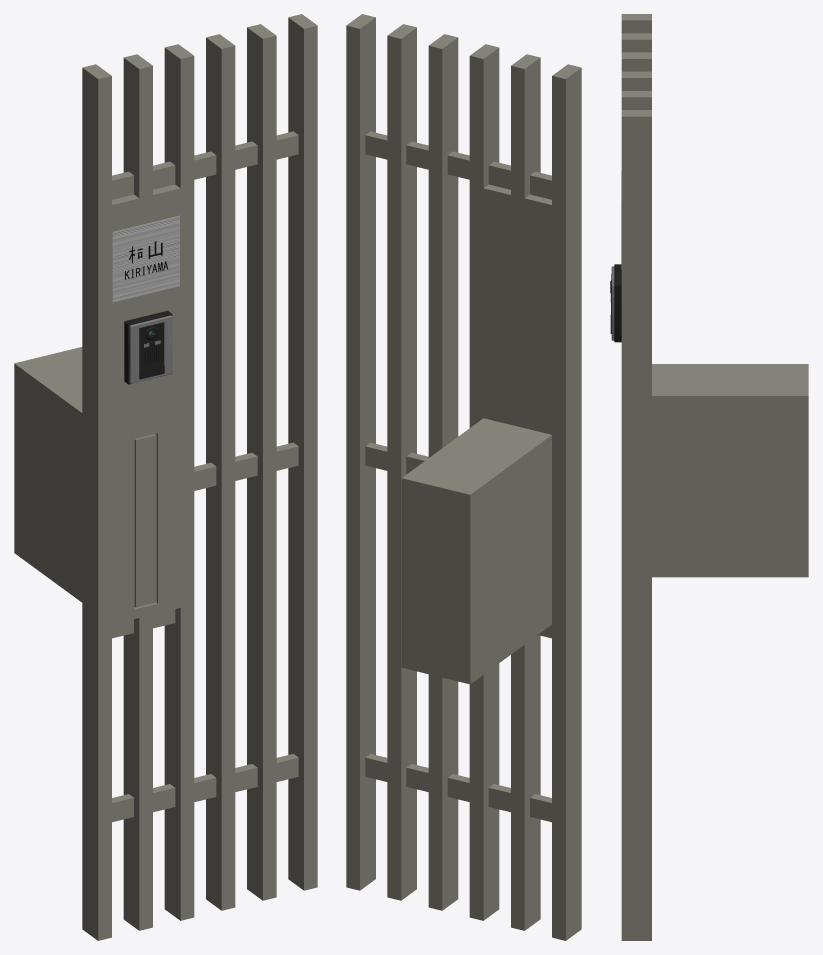
Rendered from designmonchu-kousi_stainless.fbx.
The picture shows the model from 3 angles, left to right: view 1: azimuth 30°, elevation 25°; view 2: azimuth 150°, elevation 25°; view 3: azimuth 270°, elevation 25°; orthographic projection. The views are drawn at different scales.
Parts seen in each view (by area): view 1: designmonchu-kousi_stainless2; view 2: designmonchu-kousi_stainless2; view 3: designmonchu-kousi_stainless2.
Part boxes in pixels (x1,y1,x2,y2): designmonchu-kousi_stainless2: (14, 14, 317, 940); designmonchu-kousi_stainless2: (346, 14, 581, 940); designmonchu-kousi_stainless2: (610, 14, 808, 940).
Size of the model in its own units: 48 by 180 by 39.3.
Materials: 6 (5 with a texture image).
